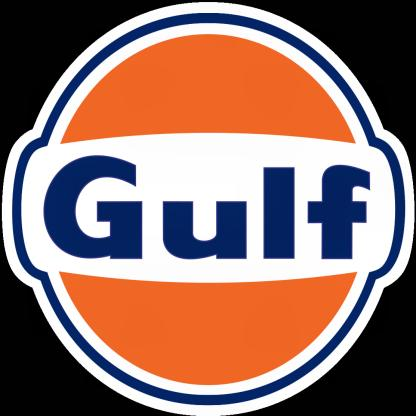Gulf: (11, 14, 405, 405)
